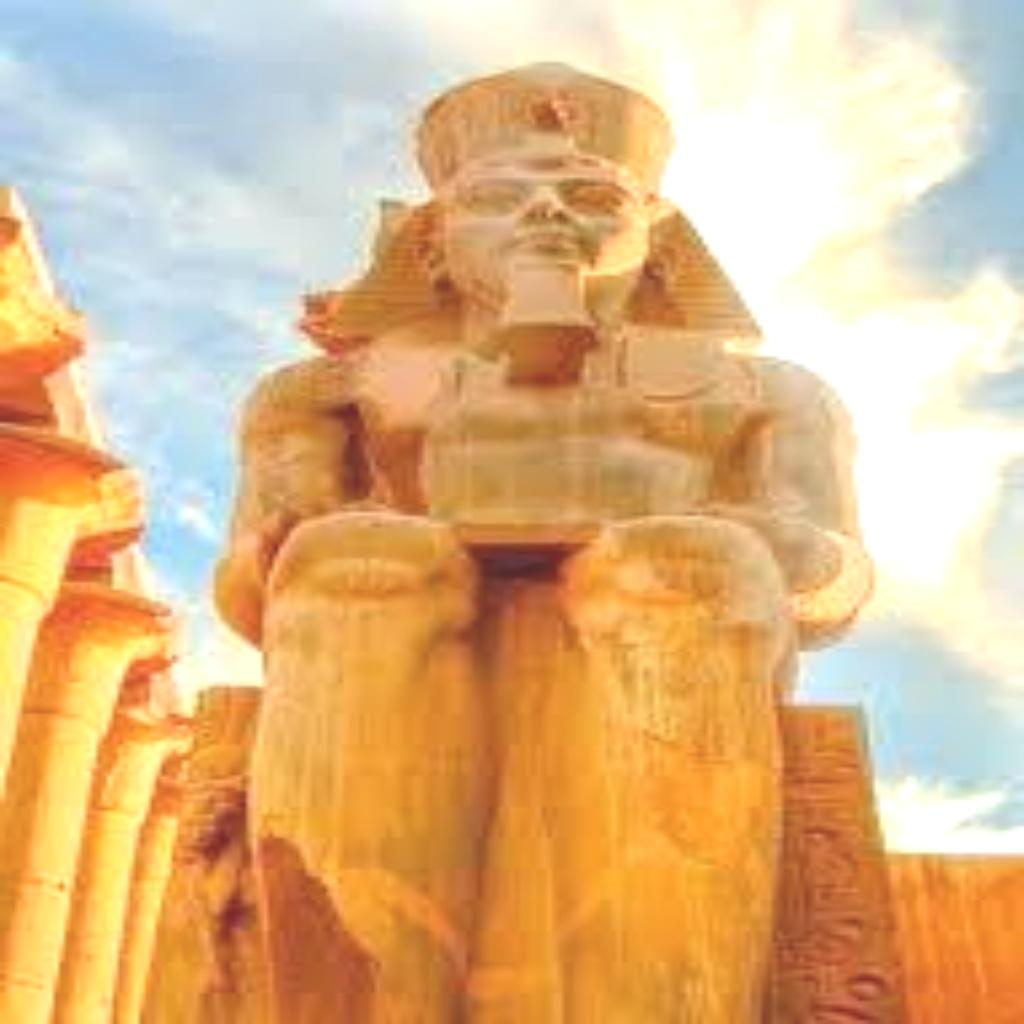Statue of King Ramses II Luxor Temple: (212, 58, 876, 1020)
